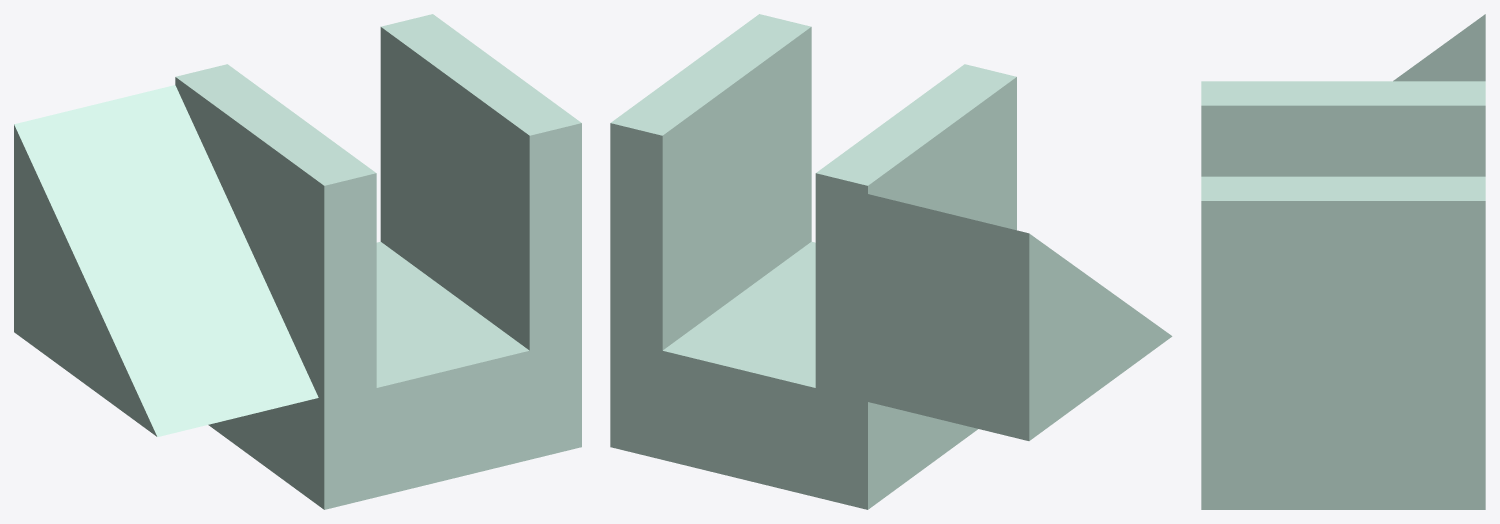
The picture shows the model from 3 angles, left to right: view 1: azimuth 30°, elevation 25°; view 2: azimuth 150°, elevation 25°; view 3: azimuth 270°, elevation 25°; orthographic projection. The views are drawn at different scales.
Visible parts, largest first — view 1: Renderer Node; view 2: Renderer Node; view 3: Renderer Node.
Boxes of the visible parts, <box> form: Renderer Node: <box>14,14,581,509</box>; Renderer Node: <box>610,14,1172,509</box>; Renderer Node: <box>1201,14,1485,509</box>.
Size of the model in its own units: 1.01 by 0.75 by 0.625.
